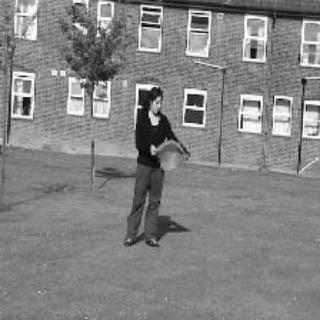other: (152, 140, 192, 174)
